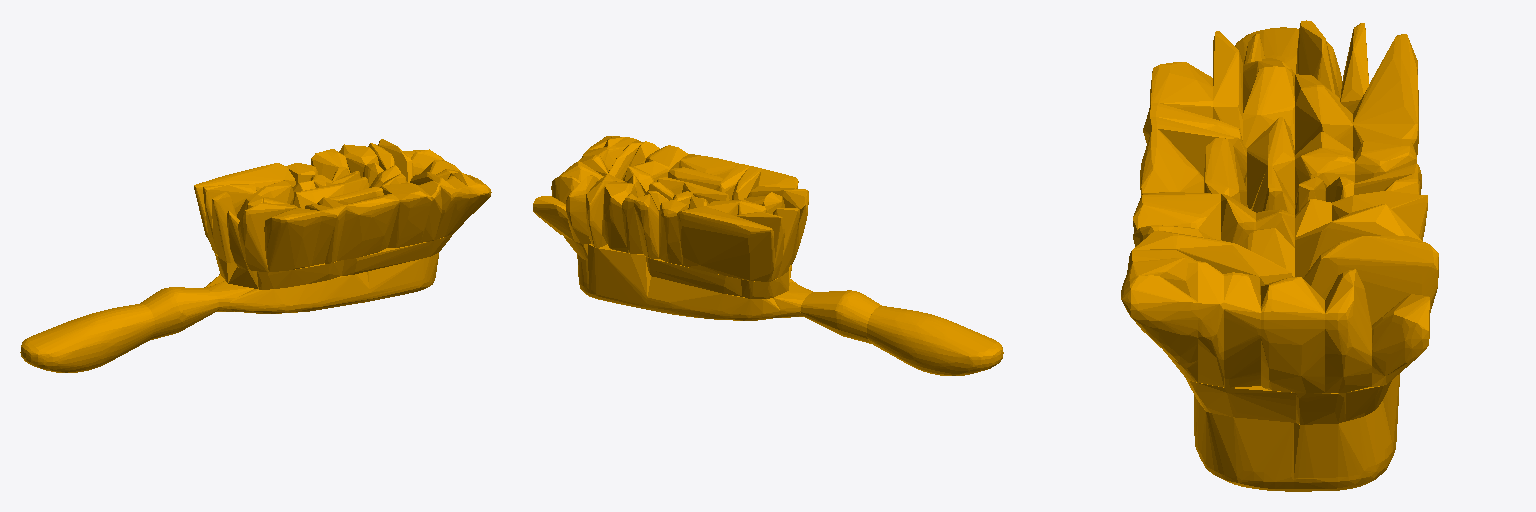
robot.urdf — red_brush:
<?xml version='1.0' encoding='utf-8'?>
<robot name="red_brush">
  <link name="red_brush">
    <visual>
      <origin xyz="0 0 0" rpy="0 0 0" />
      <geometry>
        <mesh filename="red_brush.obj" scale="1 1 1" />
      </geometry>
    </visual>
    <collision>
      <origin xyz="0 0 0" rpy="0 0 0" />
      <geometry>
        <mesh filename="red_brush_collision/decomp_0.obj" scale="1 1 1" />
      </geometry>
    </collision>
    <collision>
      <origin xyz="0 0 0" rpy="0 0 0" />
      <geometry>
        <mesh filename="red_brush_collision/decomp_1.obj" scale="1 1 1" />
      </geometry>
    </collision>
    <collision>
      <origin xyz="0 0 0" rpy="0 0 0" />
      <geometry>
        <mesh filename="red_brush_collision/decomp_2.obj" scale="1 1 1" />
      </geometry>
    </collision>
    <collision>
      <origin xyz="0 0 0" rpy="0 0 0" />
      <geometry>
        <mesh filename="red_brush_collision/decomp_3.obj" scale="1 1 1" />
      </geometry>
    </collision>
    <collision>
      <origin xyz="0 0 0" rpy="0 0 0" />
      <geometry>
        <mesh filename="red_brush_collision/decomp_4.obj" scale="1 1 1" />
      </geometry>
    </collision>
    <collision>
      <origin xyz="0 0 0" rpy="0 0 0" />
      <geometry>
        <mesh filename="red_brush_collision/decomp_5.obj" scale="1 1 1" />
      </geometry>
    </collision>
    <collision>
      <origin xyz="0 0 0" rpy="0 0 0" />
      <geometry>
        <mesh filename="red_brush_collision/decomp_6.obj" scale="1 1 1" />
      </geometry>
    </collision>
    <collision>
      <origin xyz="0 0 0" rpy="0 0 0" />
      <geometry>
        <mesh filename="red_brush_collision/decomp_7.obj" scale="1 1 1" />
      </geometry>
    </collision>
    <collision>
      <origin xyz="0 0 0" rpy="0 0 0" />
      <geometry>
        <mesh filename="red_brush_collision/decomp_8.obj" scale="1 1 1" />
      </geometry>
    </collision>
    <collision>
      <origin xyz="0 0 0" rpy="0 0 0" />
      <geometry>
        <mesh filename="red_brush_collision/decomp_9.obj" scale="1 1 1" />
      </geometry>
    </collision>
    <collision>
      <origin xyz="0 0 0" rpy="0 0 0" />
      <geometry>
        <mesh filename="red_brush_collision/decomp_10.obj" scale="1 1 1" />
      </geometry>
    </collision>
    <collision>
      <origin xyz="0 0 0" rpy="0 0 0" />
      <geometry>
        <mesh filename="red_brush_collision/decomp_11.obj" scale="1 1 1" />
      </geometry>
    </collision>
    <collision>
      <origin xyz="0 0 0" rpy="0 0 0" />
      <geometry>
        <mesh filename="red_brush_collision/decomp_12.obj" scale="1 1 1" />
      </geometry>
    </collision>
    <collision>
      <origin xyz="0 0 0" rpy="0 0 0" />
      <geometry>
        <mesh filename="red_brush_collision/decomp_13.obj" scale="1 1 1" />
      </geometry>
    </collision>
    <collision>
      <origin xyz="0 0 0" rpy="0 0 0" />
      <geometry>
        <mesh filename="red_brush_collision/decomp_14.obj" scale="1 1 1" />
      </geometry>
    </collision>
    <collision>
      <origin xyz="0 0 0" rpy="0 0 0" />
      <geometry>
        <mesh filename="red_brush_collision/decomp_15.obj" scale="1 1 1" />
      </geometry>
    </collision>
    <collision>
      <origin xyz="0 0 0" rpy="0 0 0" />
      <geometry>
        <mesh filename="red_brush_collision/decomp_16.obj" scale="1 1 1" />
      </geometry>
    </collision>
    <collision>
      <origin xyz="0 0 0" rpy="0 0 0" />
      <geometry>
        <mesh filename="red_brush_collision/decomp_17.obj" scale="1 1 1" />
      </geometry>
    </collision>
    <collision>
      <origin xyz="0 0 0" rpy="0 0 0" />
      <geometry>
        <mesh filename="red_brush_collision/decomp_18.obj" scale="1 1 1" />
      </geometry>
    </collision>
    <collision>
      <origin xyz="0 0 0" rpy="0 0 0" />
      <geometry>
        <mesh filename="red_brush_collision/decomp_19.obj" scale="1 1 1" />
      </geometry>
    </collision>
    <collision>
      <origin xyz="0 0 0" rpy="0 0 0" />
      <geometry>
        <mesh filename="red_brush_collision/decomp_20.obj" scale="1 1 1" />
      </geometry>
    </collision>
    <collision>
      <origin xyz="0 0 0" rpy="0 0 0" />
      <geometry>
        <mesh filename="red_brush_collision/decomp_21.obj" scale="1 1 1" />
      </geometry>
    </collision>
    <collision>
      <origin xyz="0 0 0" rpy="0 0 0" />
      <geometry>
        <mesh filename="red_brush_collision/decomp_22.obj" scale="1 1 1" />
      </geometry>
    </collision>
    <collision>
      <origin xyz="0 0 0" rpy="0 0 0" />
      <geometry>
        <mesh filename="red_brush_collision/decomp_23.obj" scale="1 1 1" />
      </geometry>
    </collision>
    <collision>
      <origin xyz="0 0 0" rpy="0 0 0" />
      <geometry>
        <mesh filename="red_brush_collision/decomp_24.obj" scale="1 1 1" />
      </geometry>
    </collision>
    <collision>
      <origin xyz="0 0 0" rpy="0 0 0" />
      <geometry>
        <mesh filename="red_brush_collision/decomp_25.obj" scale="1 1 1" />
      </geometry>
    </collision>
    <collision>
      <origin xyz="0 0 0" rpy="0 0 0" />
      <geometry>
        <mesh filename="red_brush_collision/decomp_26.obj" scale="1 1 1" />
      </geometry>
    </collision>
    <collision>
      <origin xyz="0 0 0" rpy="0 0 0" />
      <geometry>
        <mesh filename="red_brush_collision/decomp_27.obj" scale="1 1 1" />
      </geometry>
    </collision>
    <collision>
      <origin xyz="0 0 0" rpy="0 0 0" />
      <geometry>
        <mesh filename="red_brush_collision/decomp_28.obj" scale="1 1 1" />
      </geometry>
    </collision>
    <collision>
      <origin xyz="0 0 0" rpy="0 0 0" />
      <geometry>
        <mesh filename="red_brush_collision/decomp_29.obj" scale="1 1 1" />
      </geometry>
    </collision>
    <collision>
      <origin xyz="0 0 0" rpy="0 0 0" />
      <geometry>
        <mesh filename="red_brush_collision/decomp_30.obj" scale="1 1 1" />
      </geometry>
    </collision>
    <collision>
      <origin xyz="0 0 0" rpy="0 0 0" />
      <geometry>
        <mesh filename="red_brush_collision/decomp_31.obj" scale="1 1 1" />
      </geometry>
    </collision>
    <collision>
      <origin xyz="0 0 0" rpy="0 0 0" />
      <geometry>
        <mesh filename="red_brush_collision/decomp_32.obj" scale="1 1 1" />
      </geometry>
    </collision>
    <collision>
      <origin xyz="0 0 0" rpy="0 0 0" />
      <geometry>
        <mesh filename="red_brush_collision/decomp_33.obj" scale="1 1 1" />
      </geometry>
    </collision>
    <collision>
      <origin xyz="0 0 0" rpy="0 0 0" />
      <geometry>
        <mesh filename="red_brush_collision/decomp_34.obj" scale="1 1 1" />
      </geometry>
    </collision>
    <collision>
      <origin xyz="0 0 0" rpy="0 0 0" />
      <geometry>
        <mesh filename="red_brush_collision/decomp_35.obj" scale="1 1 1" />
      </geometry>
    </collision>
    <collision>
      <origin xyz="0 0 0" rpy="0 0 0" />
      <geometry>
        <mesh filename="red_brush_collision/decomp_36.obj" scale="1 1 1" />
      </geometry>
    </collision>
    <collision>
      <origin xyz="0 0 0" rpy="0 0 0" />
      <geometry>
        <mesh filename="red_brush_collision/decomp_37.obj" scale="1 1 1" />
      </geometry>
    </collision>
    <collision>
      <origin xyz="0 0 0" rpy="0 0 0" />
      <geometry>
        <mesh filename="red_brush_collision/decomp_38.obj" scale="1 1 1" />
      </geometry>
    </collision>
    <collision>
      <origin xyz="0 0 0" rpy="0 0 0" />
      <geometry>
        <mesh filename="red_brush_collision/decomp_39.obj" scale="1 1 1" />
      </geometry>
    </collision>
    <collision>
      <origin xyz="0 0 0" rpy="0 0 0" />
      <geometry>
        <mesh filename="red_brush_collision/decomp_40.obj" scale="1 1 1" />
      </geometry>
    </collision>
    <collision>
      <origin xyz="0 0 0" rpy="0 0 0" />
      <geometry>
        <mesh filename="red_brush_collision/decomp_41.obj" scale="1 1 1" />
      </geometry>
    </collision>
    <collision>
      <origin xyz="0 0 0" rpy="0 0 0" />
      <geometry>
        <mesh filename="red_brush_collision/decomp_42.obj" scale="1 1 1" />
      </geometry>
    </collision>
    <collision>
      <origin xyz="0 0 0" rpy="0 0 0" />
      <geometry>
        <mesh filename="red_brush_collision/decomp_43.obj" scale="1 1 1" />
      </geometry>
    </collision>
    <collision>
      <origin xyz="0 0 0" rpy="0 0 0" />
      <geometry>
        <mesh filename="red_brush_collision/decomp_44.obj" scale="1 1 1" />
      </geometry>
    </collision>
    <collision>
      <origin xyz="0 0 0" rpy="0 0 0" />
      <geometry>
        <mesh filename="red_brush_collision/decomp_45.obj" scale="1 1 1" />
      </geometry>
    </collision>
    <collision>
      <origin xyz="0 0 0" rpy="0 0 0" />
      <geometry>
        <mesh filename="red_brush_collision/decomp_46.obj" scale="1 1 1" />
      </geometry>
    </collision>
    <collision>
      <origin xyz="0 0 0" rpy="0 0 0" />
      <geometry>
        <mesh filename="red_brush_collision/decomp_47.obj" scale="1 1 1" />
      </geometry>
    </collision>
    <collision>
      <origin xyz="0 0 0" rpy="0 0 0" />
      <geometry>
        <mesh filename="red_brush_collision/decomp_48.obj" scale="1 1 1" />
      </geometry>
    </collision>
    <collision>
      <origin xyz="0 0 0" rpy="0 0 0" />
      <geometry>
        <mesh filename="red_brush_collision/decomp_49.obj" scale="1 1 1" />
      </geometry>
    </collision>
    <collision>
      <origin xyz="0 0 0" rpy="0 0 0" />
      <geometry>
        <mesh filename="red_brush_collision/decomp_50.obj" scale="1 1 1" />
      </geometry>
    </collision>
    <collision>
      <origin xyz="0 0 0" rpy="0 0 0" />
      <geometry>
        <mesh filename="red_brush_collision/decomp_51.obj" scale="1 1 1" />
      </geometry>
    </collision>
    <collision>
      <origin xyz="0 0 0" rpy="0 0 0" />
      <geometry>
        <mesh filename="red_brush_collision/decomp_52.obj" scale="1 1 1" />
      </geometry>
    </collision>
    <collision>
      <origin xyz="0 0 0" rpy="0 0 0" />
      <geometry>
        <mesh filename="red_brush_collision/decomp_53.obj" scale="1 1 1" />
      </geometry>
    </collision>
    <collision>
      <origin xyz="0 0 0" rpy="0 0 0" />
      <geometry>
        <mesh filename="red_brush_collision/decomp_54.obj" scale="1 1 1" />
      </geometry>
    </collision>
    <collision>
      <origin xyz="0 0 0" rpy="0 0 0" />
      <geometry>
        <mesh filename="red_brush_collision/decomp_55.obj" scale="1 1 1" />
      </geometry>
    </collision>
    <collision>
      <origin xyz="0 0 0" rpy="0 0 0" />
      <geometry>
        <mesh filename="red_brush_collision/decomp_56.obj" scale="1 1 1" />
      </geometry>
    </collision>
    <collision>
      <origin xyz="0 0 0" rpy="0 0 0" />
      <geometry>
        <mesh filename="red_brush_collision/decomp_57.obj" scale="1 1 1" />
      </geometry>
    </collision>
    <collision>
      <origin xyz="0 0 0" rpy="0 0 0" />
      <geometry>
        <mesh filename="red_brush_collision/decomp_58.obj" scale="1 1 1" />
      </geometry>
    </collision>
    <collision>
      <origin xyz="0 0 0" rpy="0 0 0" />
      <geometry>
        <mesh filename="red_brush_collision/decomp_59.obj" scale="1 1 1" />
      </geometry>
    </collision>
    <collision>
      <origin xyz="0 0 0" rpy="0 0 0" />
      <geometry>
        <mesh filename="red_brush_collision/decomp_60.obj" scale="1 1 1" />
      </geometry>
    </collision>
    <collision>
      <origin xyz="0 0 0" rpy="0 0 0" />
      <geometry>
        <mesh filename="red_brush_collision/decomp_61.obj" scale="1 1 1" />
      </geometry>
    </collision>
    <collision>
      <origin xyz="0 0 0" rpy="0 0 0" />
      <geometry>
        <mesh filename="red_brush_collision/decomp_62.obj" scale="1 1 1" />
      </geometry>
    </collision>
    <inertial>
      <origin xyz="0.144441 0.000654155 0.0344481" rpy="0 0 0" />
      <mass value="0.0787839" />
      <inertia ixx="8.2041e-05" ixy="4.13576e-06" ixz="-5.61719e-05" iyy="0.000477486" iyz="2.49864e-06" izz="0.000464341" />
    </inertial>
  </link>
</robot>

--- Render facts (derived) ---
3 views of the same robot in one strip: view 1: azimuth 30°, elevation 25°; view 2: azimuth 150°, elevation 25°; view 3: azimuth 270°, elevation 25° (orthographic).
Model red_brush with 1 links and 0 joints (none), rooted at red_brush, posed every joint at zero.
Links seen in each view (by area): view 1: red_brush; view 2: red_brush; view 3: red_brush.
Link boxes in pixels (box(x1,y1,x2,y2)): red_brush: box(20, 139, 491, 372); red_brush: box(533, 136, 1003, 375); red_brush: box(1121, 20, 1438, 491).
Bounding box of the posed robot: 0.322 × 0.0963 × 0.0936 m (x, y, z).
Meshes: 1 distinct files referenced, 1 mesh visuals loaded (1 OBJ).
